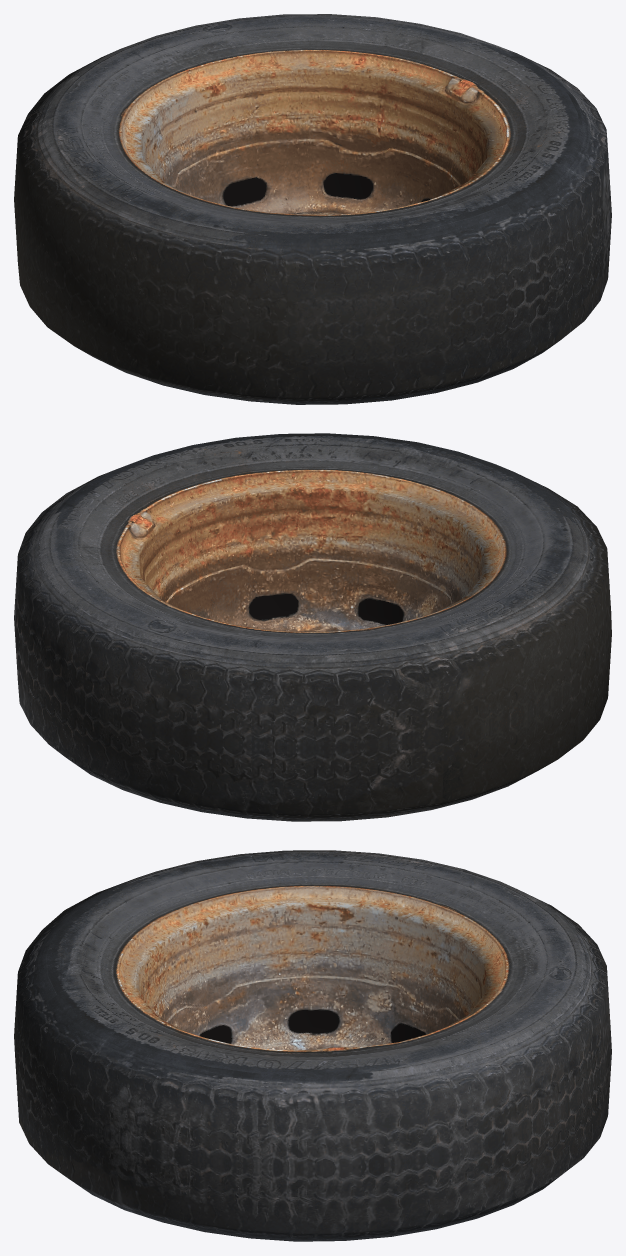
File: wheel.glb
3 views of the same model, one above another, from view 1: azimuth 30°, elevation 25°; view 2: azimuth 150°, elevation 25°; view 3: azimuth 270°, elevation 25° (orthographic).
Parts seen in each view (by area): view 1: Object001; view 2: Object001; view 3: Object001.
Part boxes in pixels (left/top/right/bottom): Object001: left=14, top=14, right=611, bottom=404; Object001: left=14, top=433, right=611, bottom=821; Object001: left=14, top=850, right=611, bottom=1241.
Size of the model in its own units: 5.64 by 1.8 by 5.62.
Materials: 1 (1 with a texture image).
